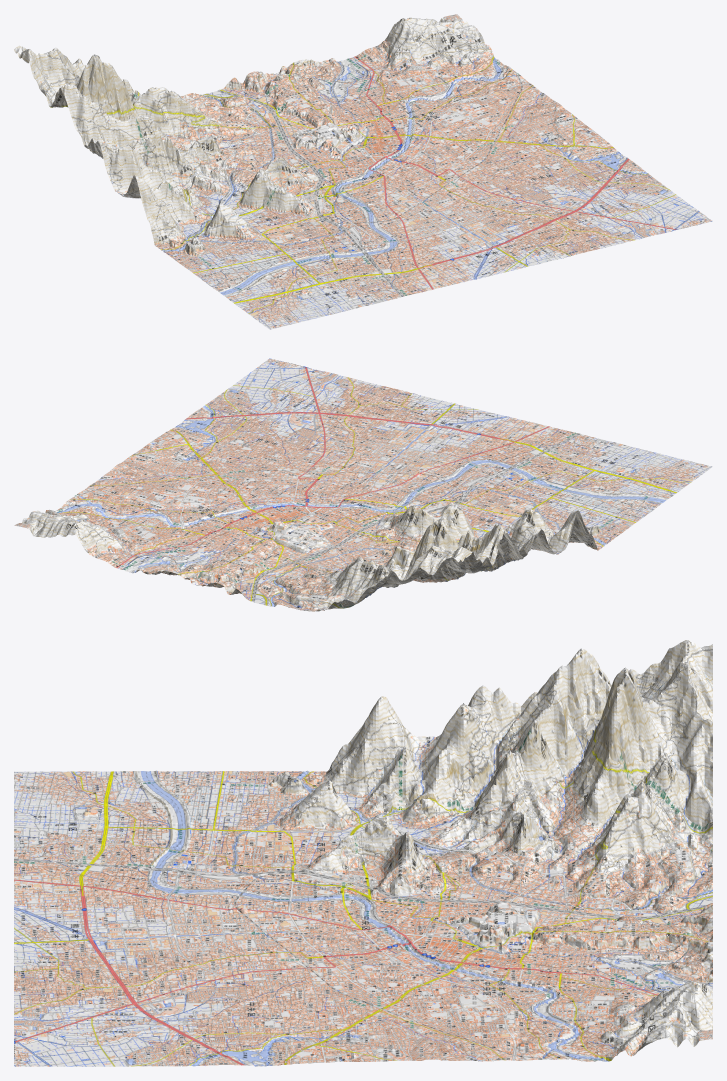
Rendered from dem.obj.
3 views of the same model, one above another, from view 1: azimuth 30°, elevation 25°; view 2: azimuth 150°, elevation 25°; view 3: azimuth 270°, elevation 25° (orthographic). The views are drawn at different scales.
Parts seen in each view (by area): view 1: model; view 2: model; view 3: model.
Part boxes in pixels (x1,y1,x2,y2): model: (14,14,712,329); model: (14,358,712,611); model: (14,640,712,1066).
Bounding box in the file's own units: 149 × 32.36 × 149.
Materials: 1 (1 with a texture image).
